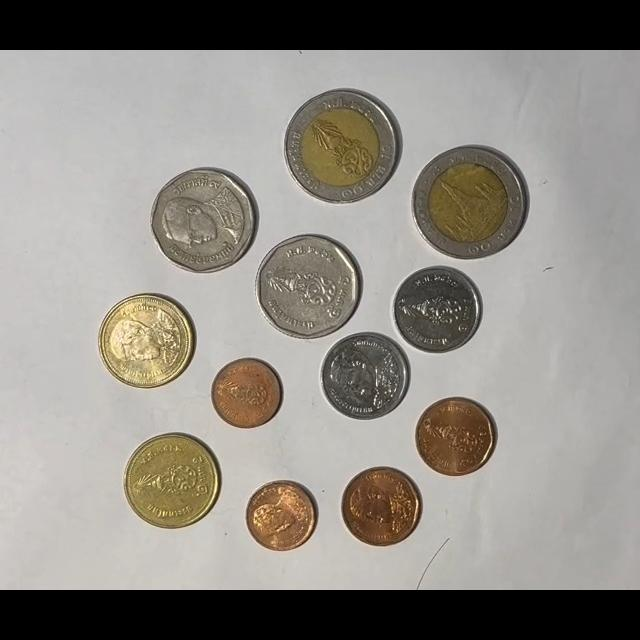1-baht: (392, 266, 482, 355), (320, 332, 409, 421)
10-baht: (284, 88, 402, 205), (412, 145, 527, 260)
2-baht: (124, 433, 222, 530), (99, 294, 194, 390)
25-satang: (245, 480, 318, 552), (210, 357, 282, 429)
5-baht: (150, 168, 258, 275), (256, 233, 362, 340)
50-satang: (341, 467, 422, 547), (415, 397, 496, 477)
